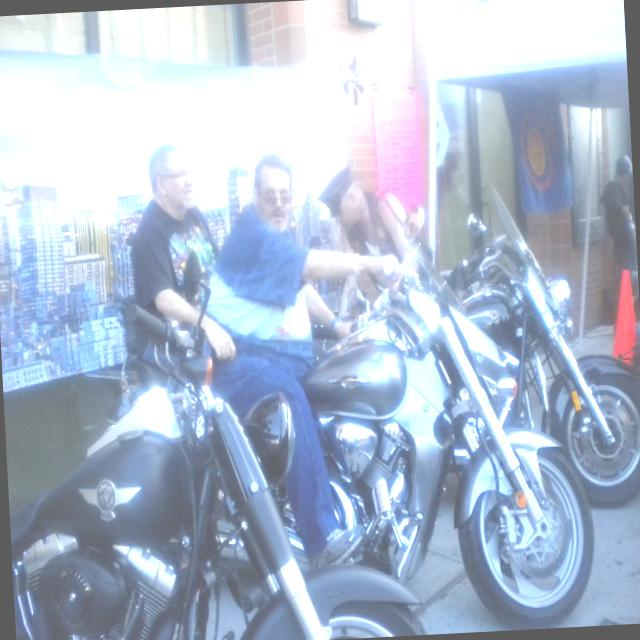Vehicle: (257, 190, 622, 640), (0, 288, 432, 640), (445, 185, 640, 504)
